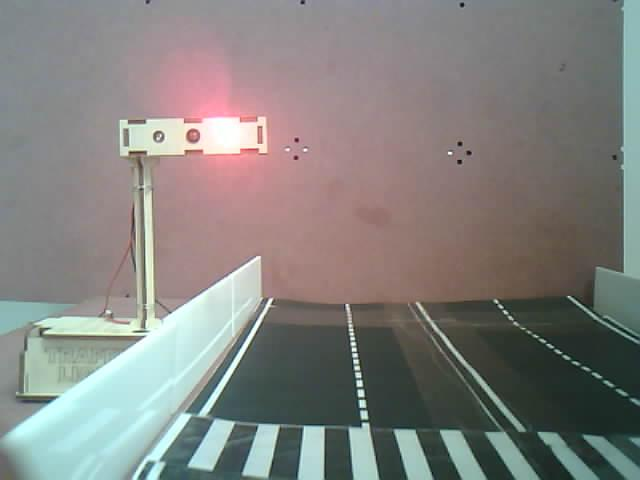crosswalk: (125, 407, 640, 479)
red: (104, 106, 279, 289)
